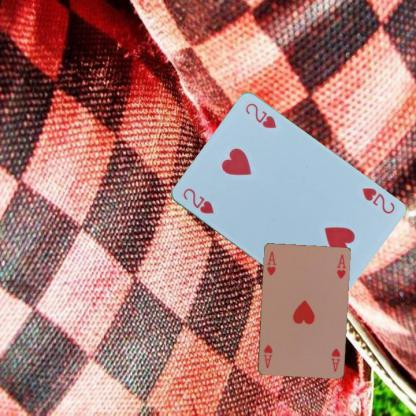2h: (359, 185, 396, 215), (180, 186, 215, 216)
Ah: (265, 249, 277, 277), (329, 346, 341, 373)
